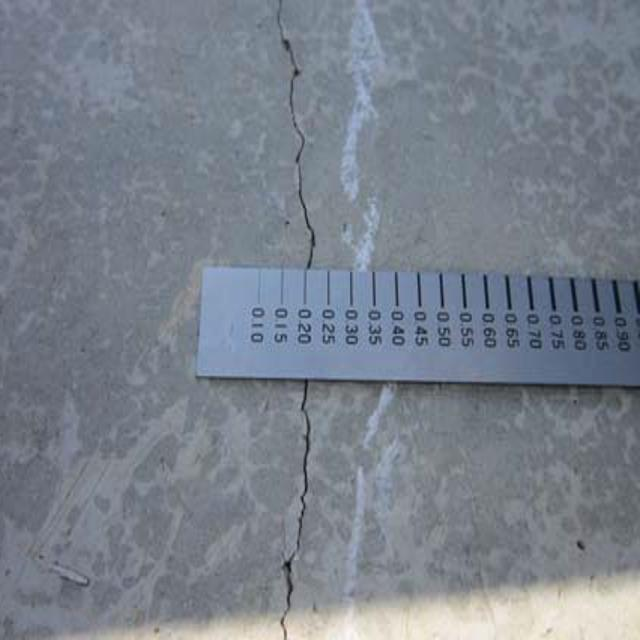crack: (266, 8, 354, 272), (263, 387, 328, 640)
